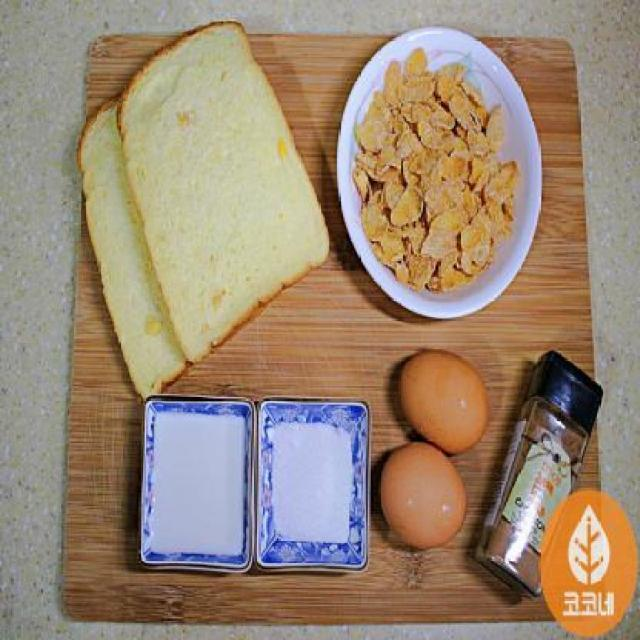Egg: (398, 349, 488, 452), (380, 442, 466, 548)
